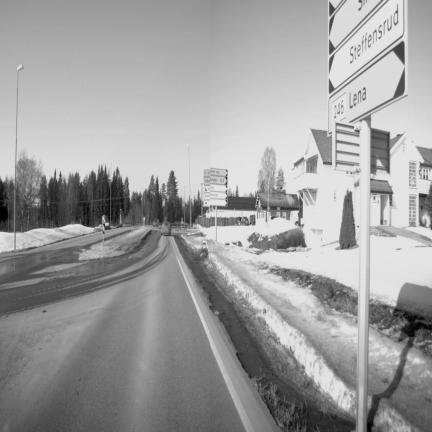Road: (0, 237, 276, 430)
